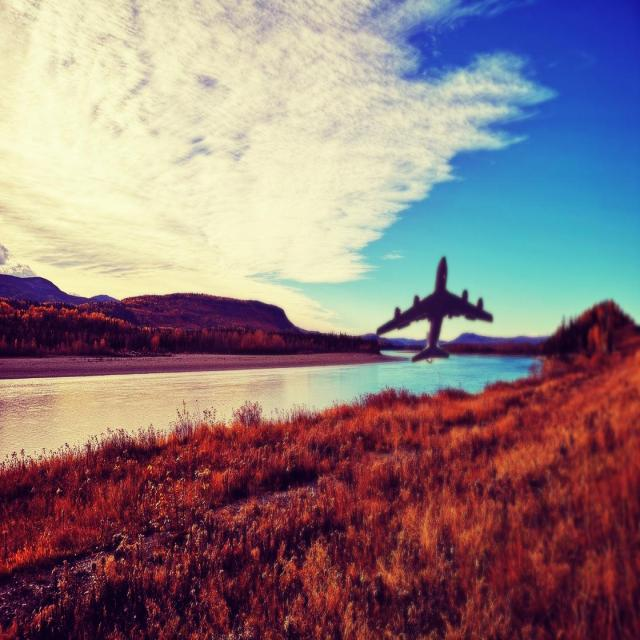airplane: (375, 255, 493, 363)
